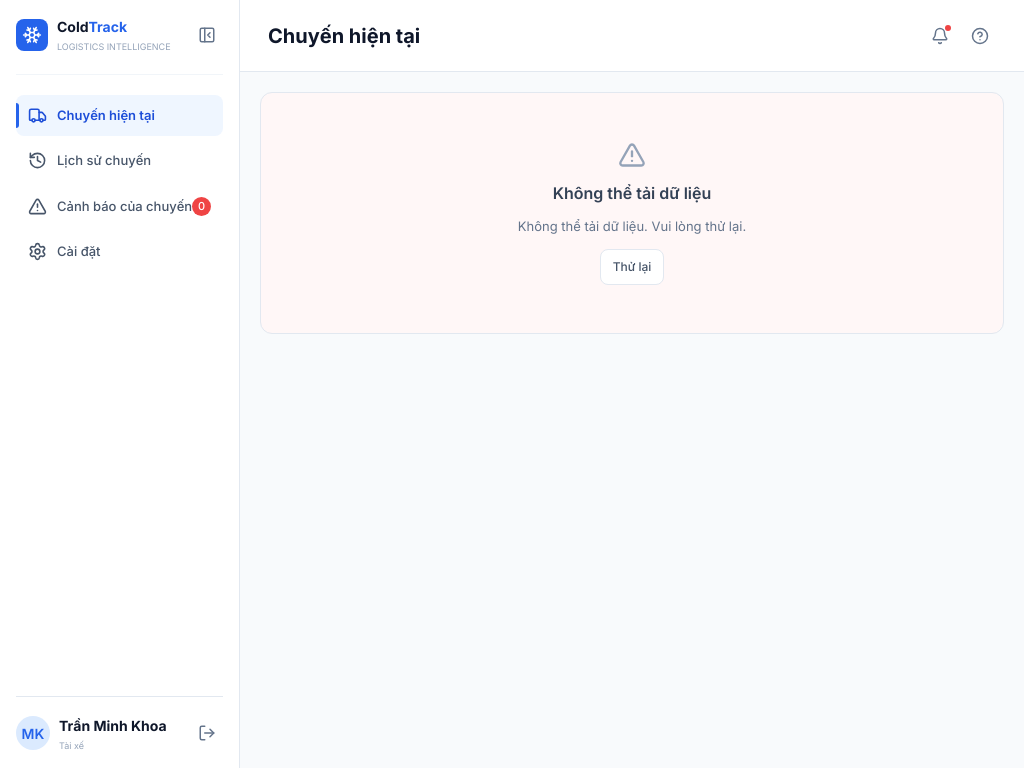
Test: B4 driver screens › renders loading and recovers error on retry
Expected: the heading "Đang tải dữ liệu…" is shown, [553,181,711,205]
Click the button "Thử lại" at (632, 266), box [600,248,664,284]
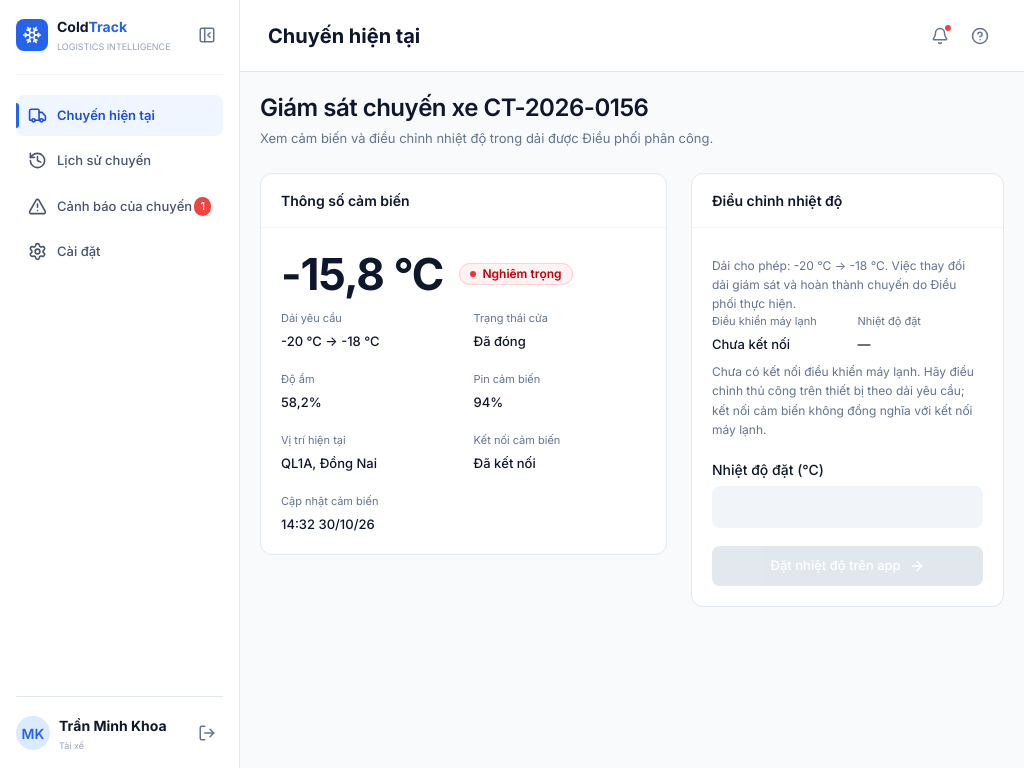
Expected: the heading "Giám sát chuyến xe CT-2026-0156" is shown, [260,92,713,123]
